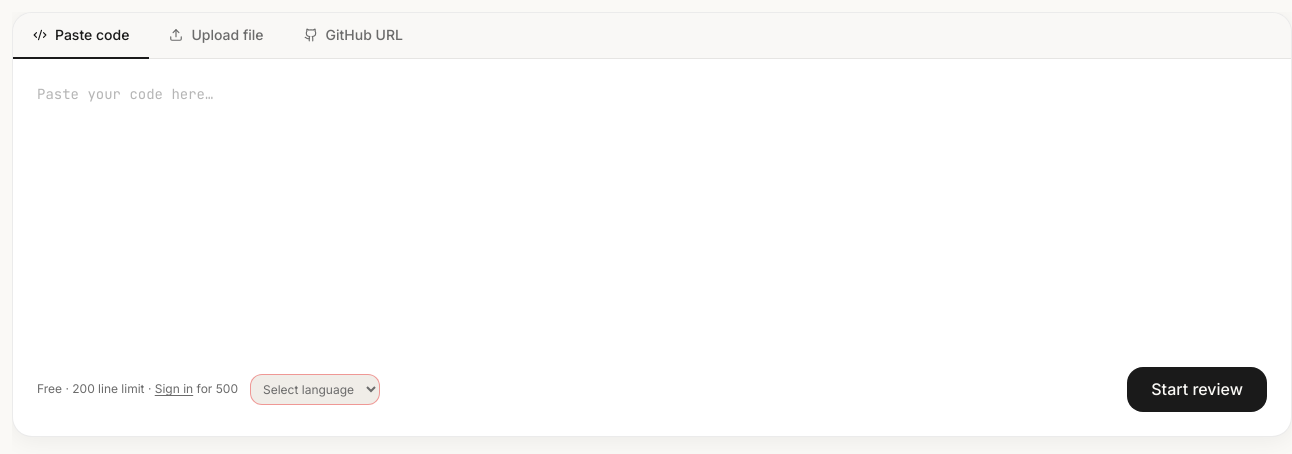
InputPanel — github tab › shows error when URL is empty
Click the button "GitHub URL" at (353, 36), box [284,13,423,59]
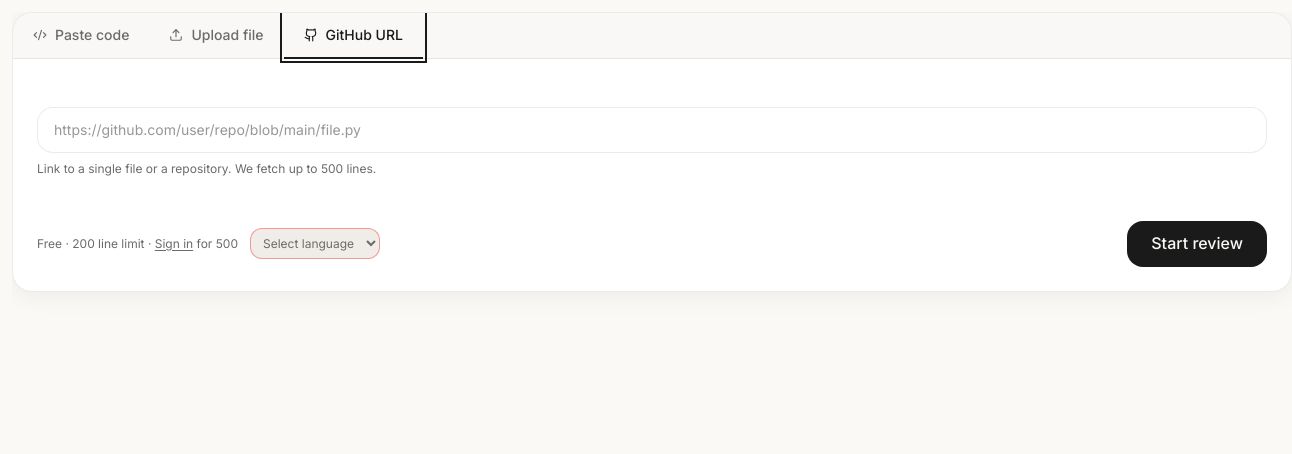
Select "Python" in the dropdown at (315, 244), box [250,228,380,259]
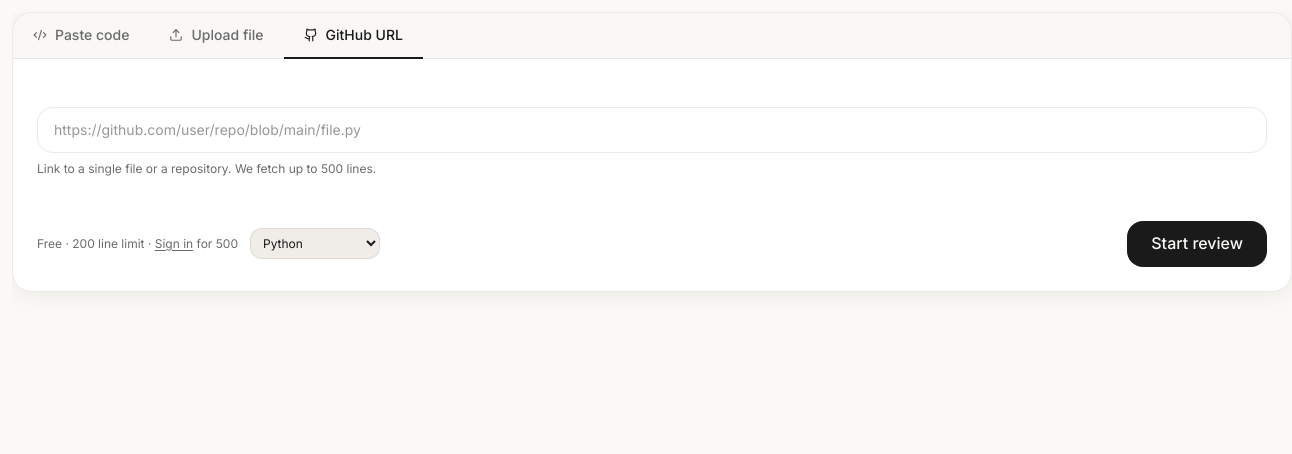
Click the button "Start review" at (1197, 244), box [1127,221,1267,267]
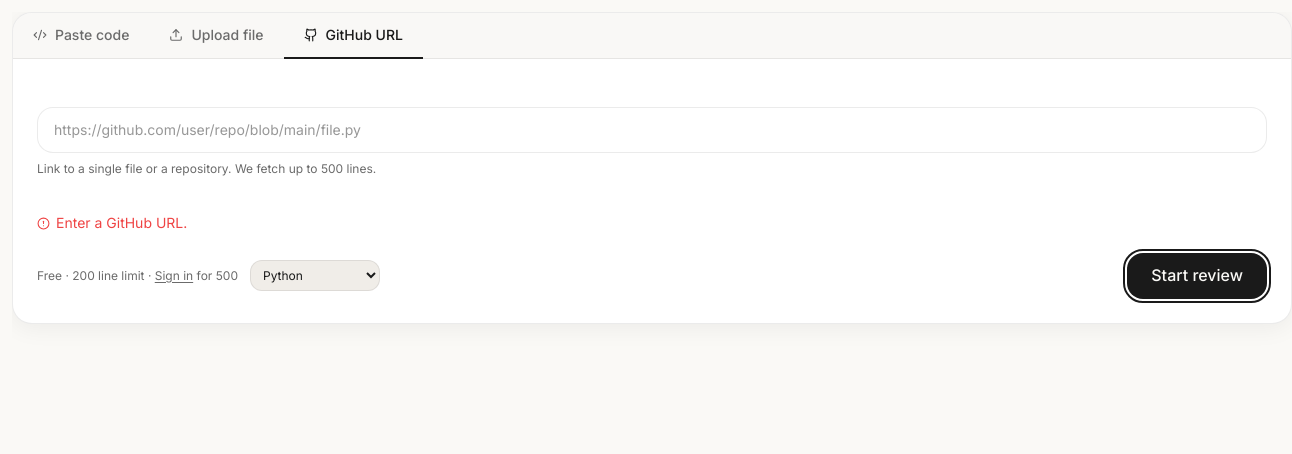
Result: the text "Enter a GitHub URL." is shown at [37,214,187,231]
